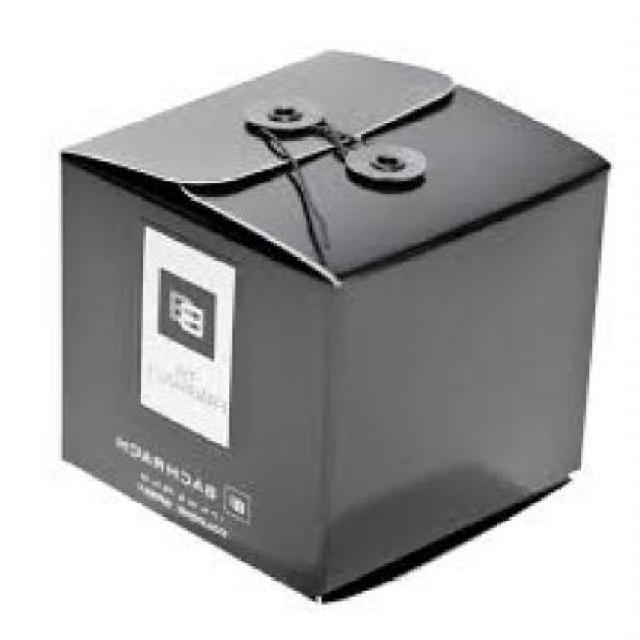CARDBOARD: (65, 48, 613, 600)
